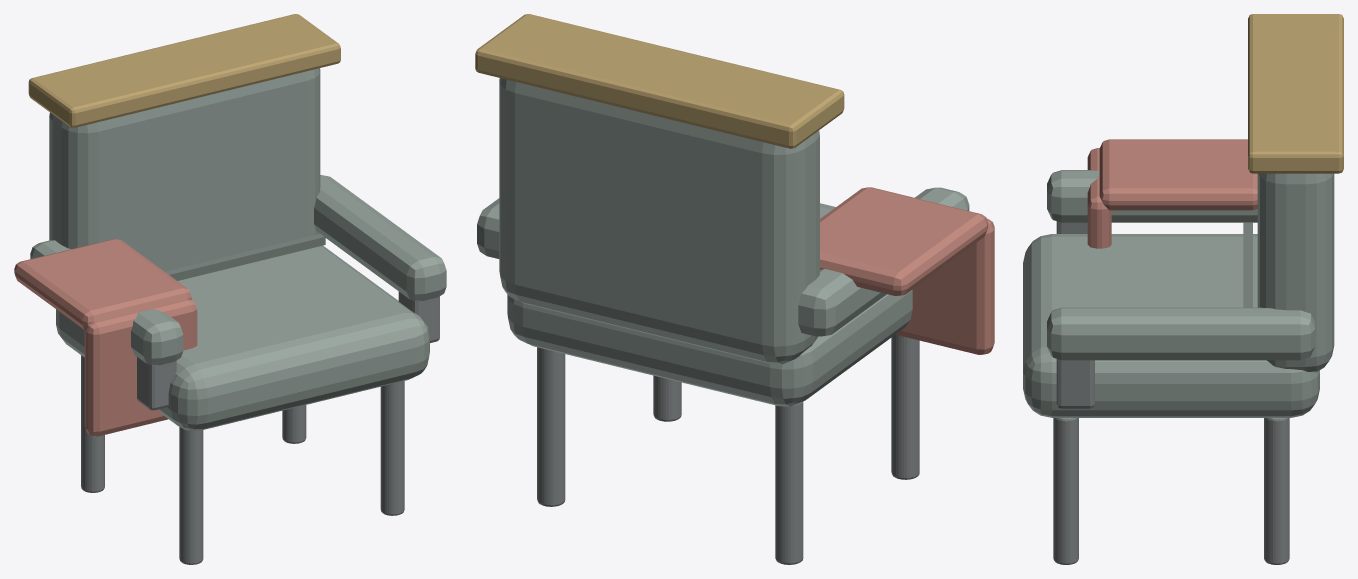
Rendered from chair.glb.
3 views of the same model, side by side, from view 1: azimuth 30°, elevation 25°; view 2: azimuth 150°, elevation 25°; view 3: azimuth 270°, elevation 25° (orthographic). The views are drawn at different scales.
Parts seen in each view (by area): view 1: chair; view 2: chair; view 3: chair.
Boxes of the visible parts, <box> form: chair: <box>14,14,446,564</box>; chair: <box>475,14,994,564</box>; chair: <box>1023,14,1343,564</box>.
Bounding box in the file's own units: 0.88 × 0.98 × 0.67.
